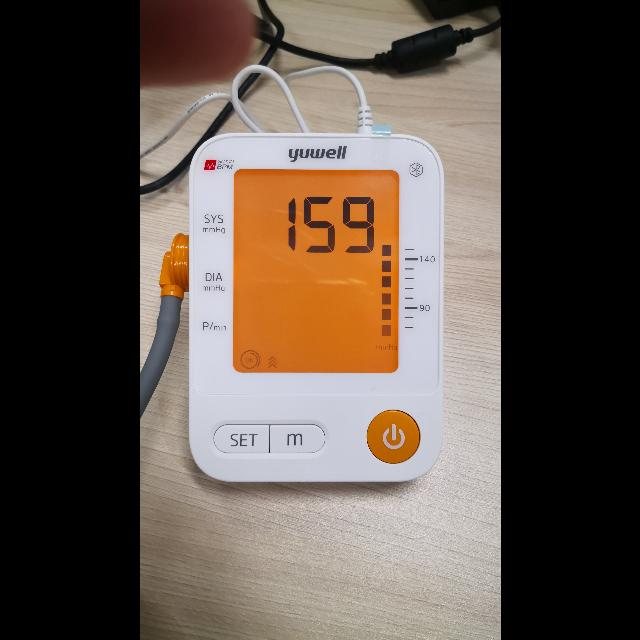Blood-Pressure-Monitor: (188, 136, 444, 480)
